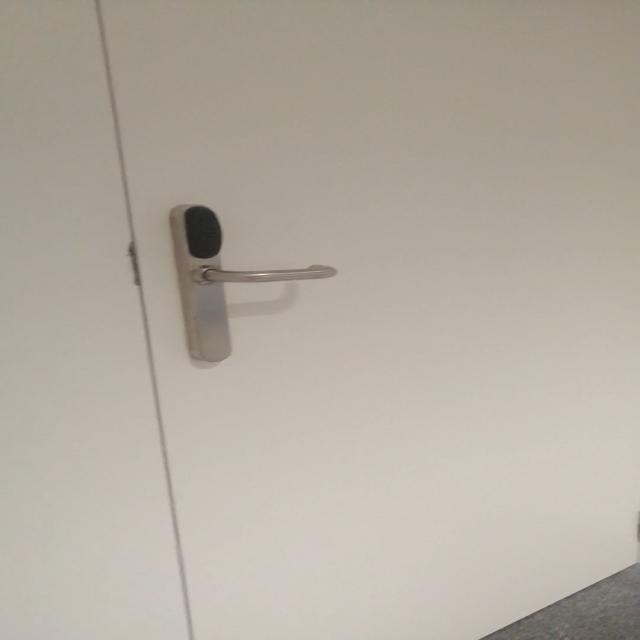door_handle: (188, 258, 345, 291)
